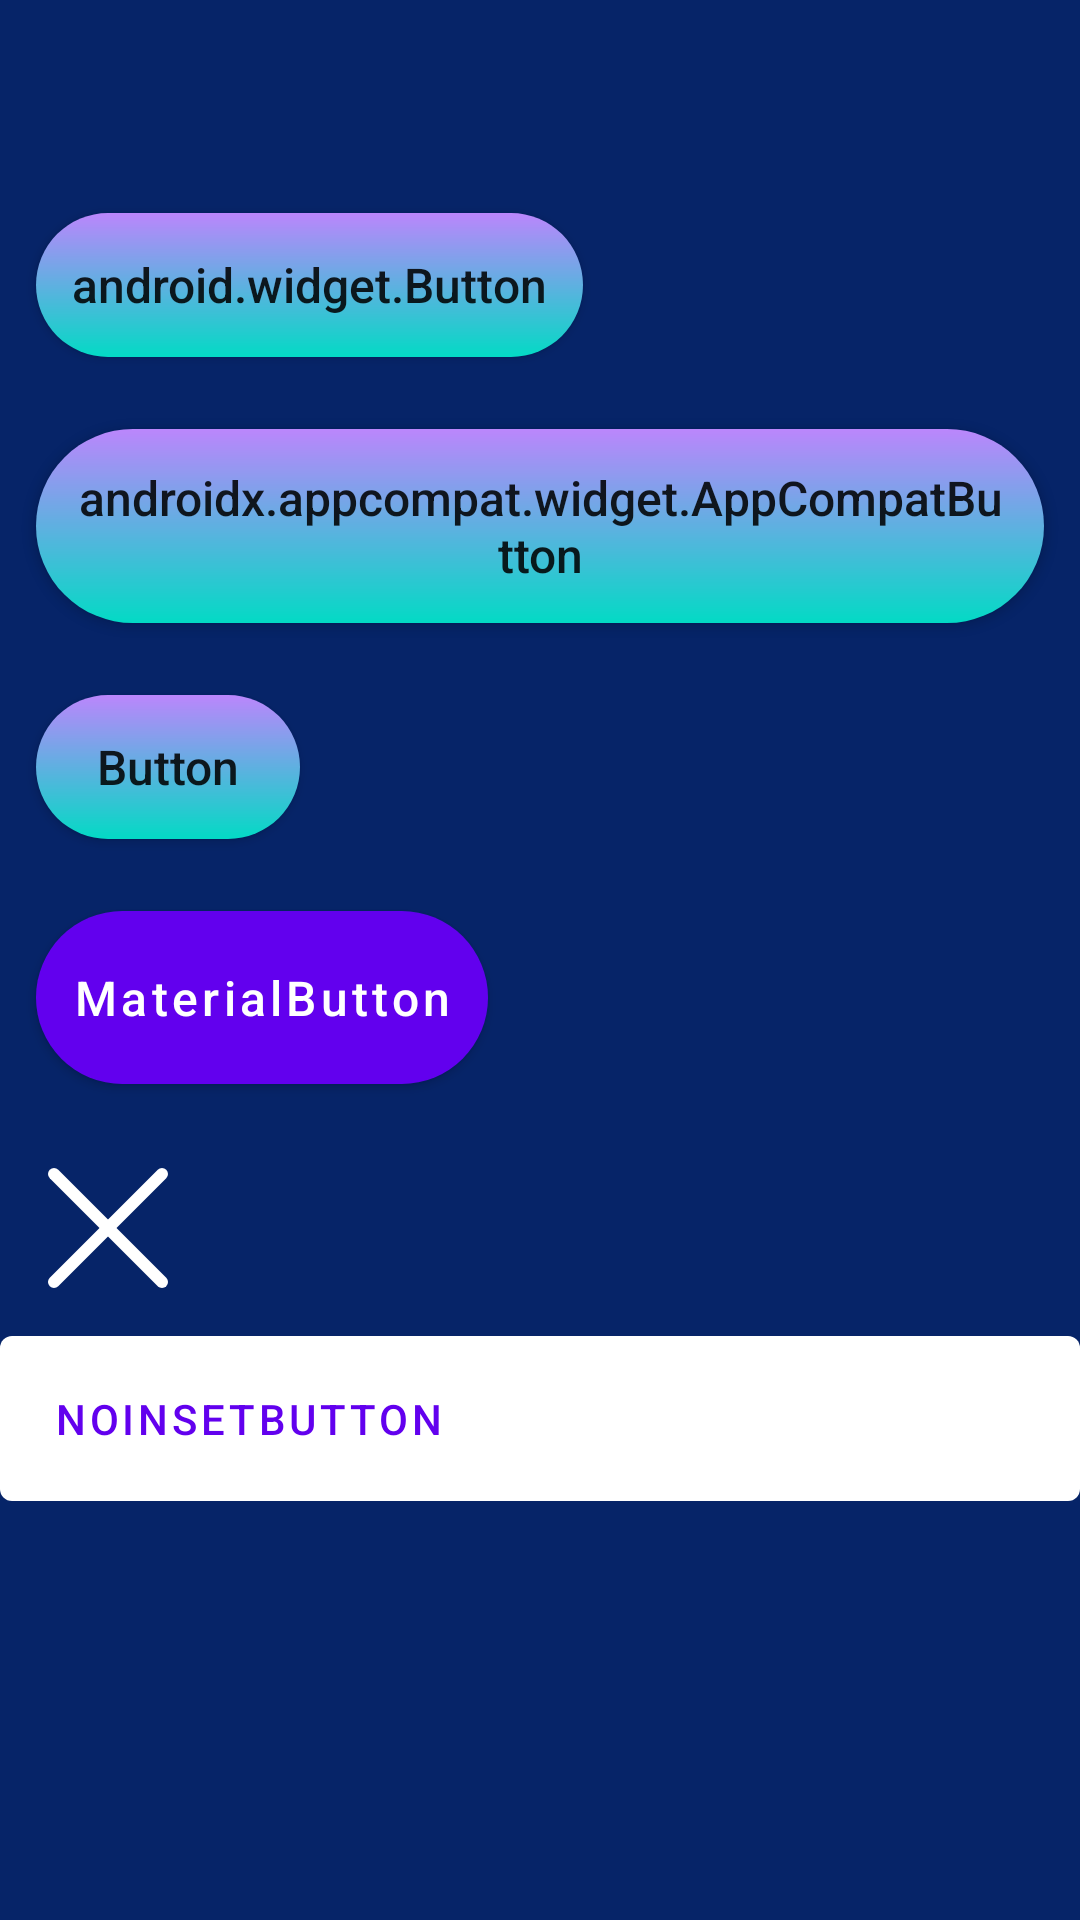

Where to tap for icons on this 1080 x 1920 app screen, as [x,y]:
close: [108,1228]
